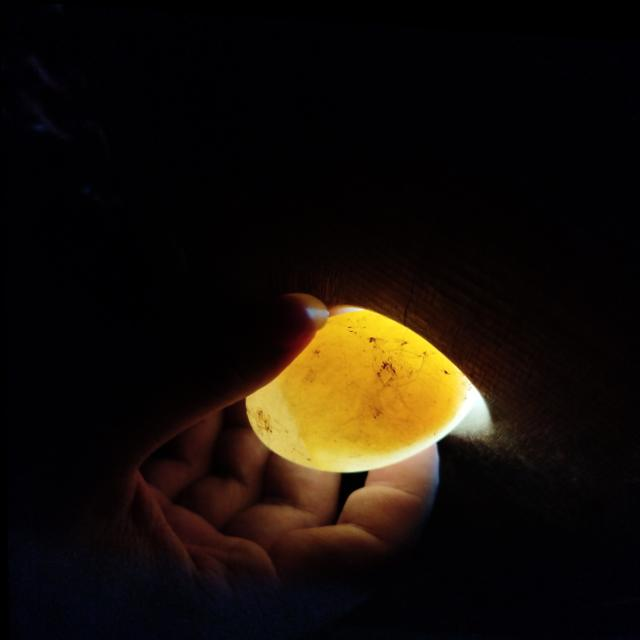Gema Quebrada: (275, 305, 462, 442)
Rachadura: (336, 330, 452, 423)
